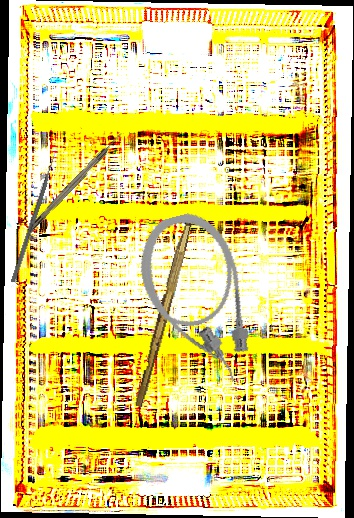Cannula: (129, 204, 265, 398)
Hook Surgical: (26, 131, 125, 233)
Pusher: (10, 146, 60, 283)
Scalpel Handle: (133, 220, 193, 409)
